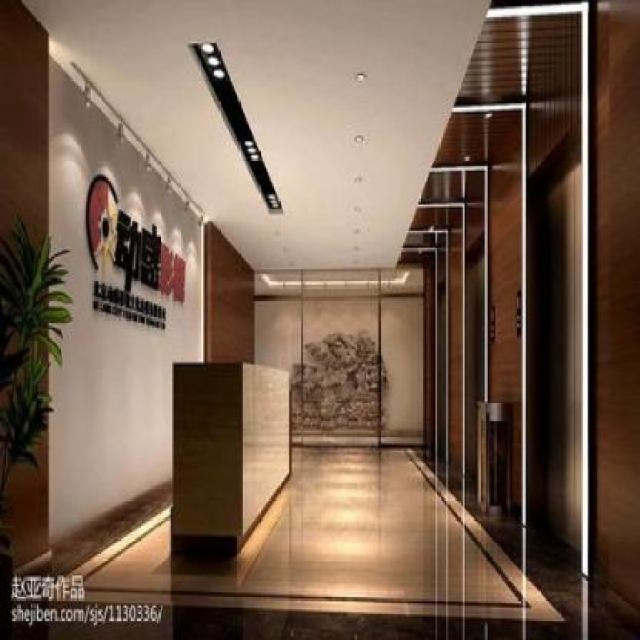frontdesk: (163, 362, 299, 570)
